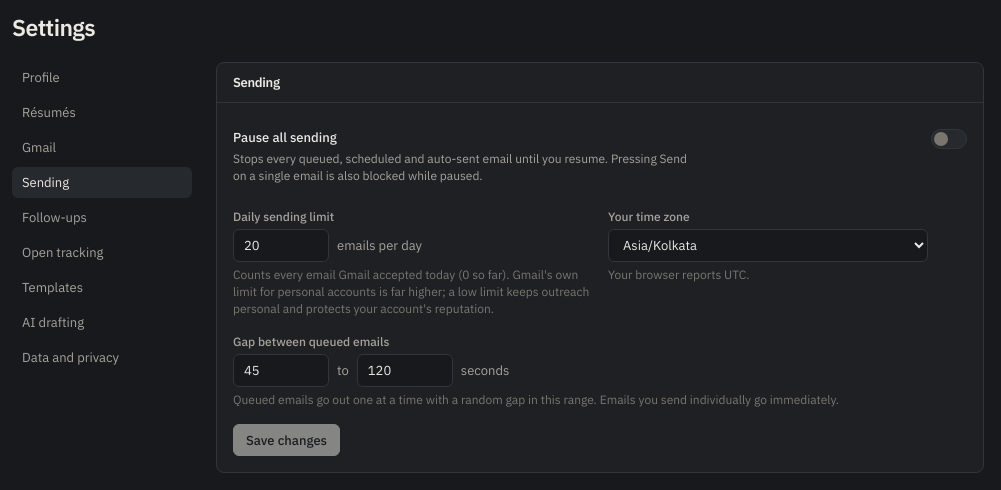
Scenario: Settings › only enables saving after a change and rejects an impossible spacing range
expect the button "Save changes" is disabled: met, box 233,424 -> 340,456
Replace the text in the number field labelled "Gap between queued emails" with "300" at (281, 370), box 233,354 -> 329,387
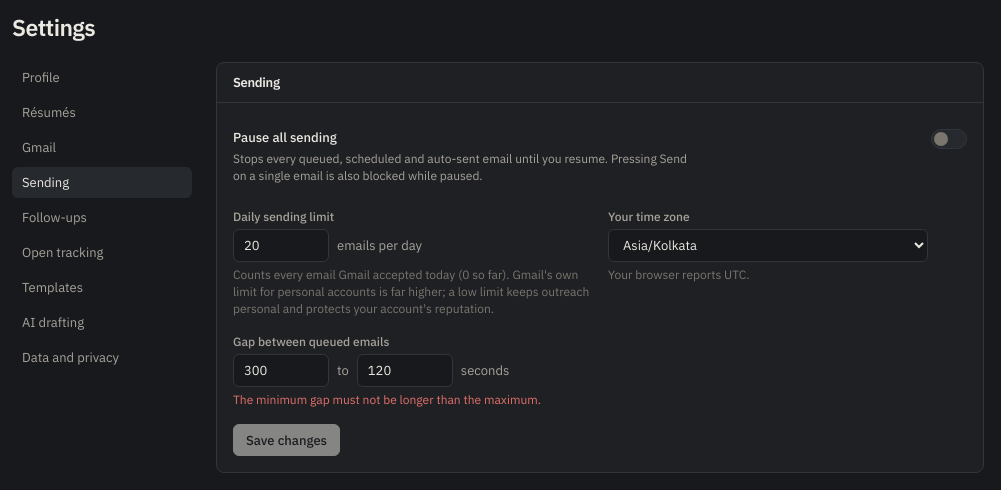
expect the button "Save changes" is disabled: met, box 233,424 -> 340,456
expect the text "The minimum gap must not be longer than the maximum." is shown: met, box 233,392 -> 541,407
Replace the text in the number field labelled "Gap between queued emails" with "60" at (281, 370), box 233,354 -> 329,387
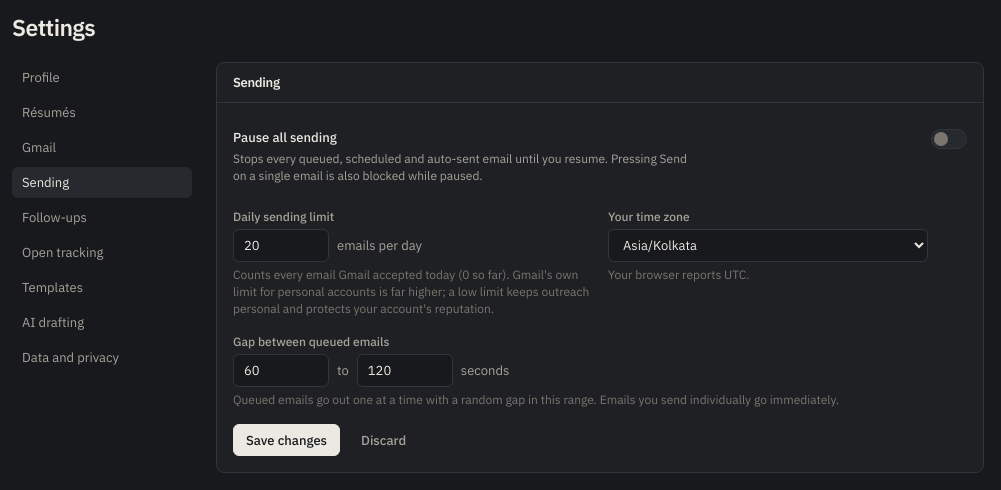
expect the button "Save changes" is enabled: met, box 233,424 -> 340,456
